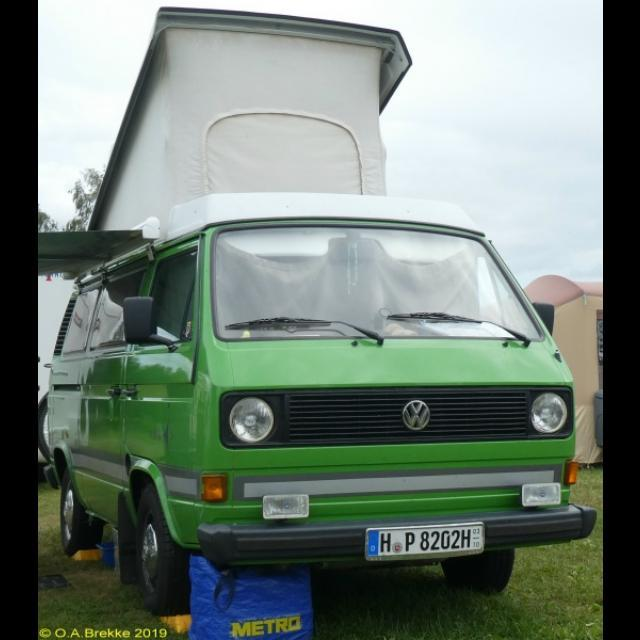license-plates: (366, 524, 486, 562)
